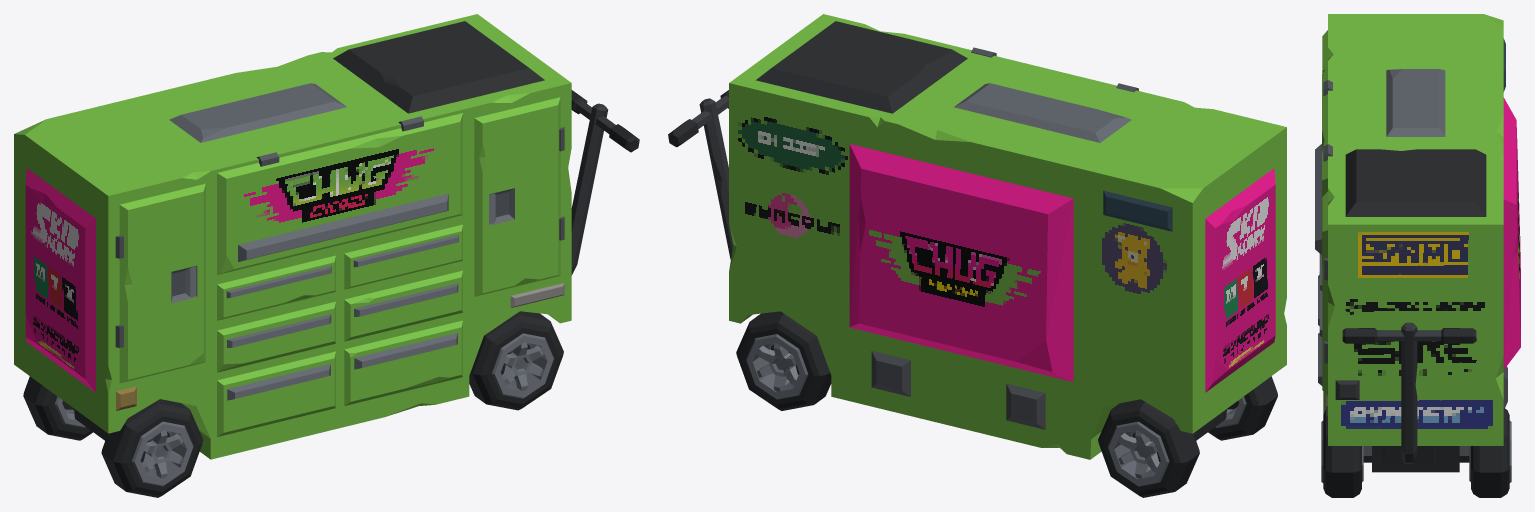
File: pit_box.glb
3 views of the same model, side by side, from view 1: azimuth 30°, elevation 25°; view 2: azimuth 150°, elevation 25°; view 3: azimuth 270°, elevation 25° (orthographic). The views are drawn at different scales.
Parts seen in each view (by area): view 1: SM_Prop_Pit_Box_02, SM_Prop_Pit_Box_02_Cabinet_03, SM_Prop_Pit_Box_02_Cabinet_02, SM_Prop_Pit_Box_02_Cabinet_01, SM_Prop_Pit_Box_02_Wheel_B_01, SM_Prop_Pit_Box_02_Drawer_06, SM_Prop_Pit_Box_02_Drawer_05, SM_Prop_Pit_Box_02_Wheel_F_01, SM_Prop_Pit_Box_02_Drawer_03, SM_Prop_Pit_Box_02_Drawer_04, SM_Prop_Pit_Box_02_Drawer_01, SM_Prop_Pit_Box_02_Drawer_02; view 2: SM_Prop_Pit_Box_02, SM_Prop_Pit_Box_02_Wheel_B_01, SM_Prop_Pit_Box_02_Wheel_F_01; view 3: SM_Prop_Pit_Box_02, SM_Prop_Pit_Box_02_Wheel_F_01, SM_Prop_Pit_Box_02_Cabinet_03, SM_Prop_Pit_Box_02_Cabinet_02, SM_Prop_Pit_Box_02_Drawer_06.
Boxes of the visible parts, x1,y1,x2,y2 form: SM_Prop_Pit_Box_02: [14, 14, 639, 459]; SM_Prop_Pit_Box_02_Cabinet_03: [217, 113, 462, 274]; SM_Prop_Pit_Box_02_Cabinet_02: [474, 97, 560, 296]; SM_Prop_Pit_Box_02_Cabinet_01: [119, 183, 205, 383]; SM_Prop_Pit_Box_02_Wheel_B_01: [23, 376, 203, 497]; SM_Prop_Pit_Box_02_Drawer_06: [344, 320, 462, 405]; SM_Prop_Pit_Box_02_Drawer_05: [217, 351, 335, 436]; SM_Prop_Pit_Box_02_Wheel_F_01: [469, 311, 563, 410]; SM_Prop_Pit_Box_02_Drawer_03: [217, 301, 335, 372]; SM_Prop_Pit_Box_02_Drawer_04: [344, 270, 462, 341]; SM_Prop_Pit_Box_02_Drawer_01: [217, 255, 335, 320]; SM_Prop_Pit_Box_02_Drawer_02: [344, 224, 462, 289]; SM_Prop_Pit_Box_02: [668, 14, 1286, 459]; SM_Prop_Pit_Box_02_Wheel_B_01: [1098, 376, 1277, 497]; SM_Prop_Pit_Box_02_Wheel_F_01: [736, 311, 831, 410]; SM_Prop_Pit_Box_02: [1323, 14, 1520, 472]; SM_Prop_Pit_Box_02_Wheel_F_01: [1321, 408, 1511, 497]; SM_Prop_Pit_Box_02_Cabinet_03: [1315, 67, 1327, 265]; SM_Prop_Pit_Box_02_Cabinet_02: [1322, 191, 1327, 396]; SM_Prop_Pit_Box_02_Drawer_06: [1318, 333, 1325, 414].
Size of the model in its own units: 3.04 by 1.74 by 1.07.
Materials: 1 (1 with a texture image).
